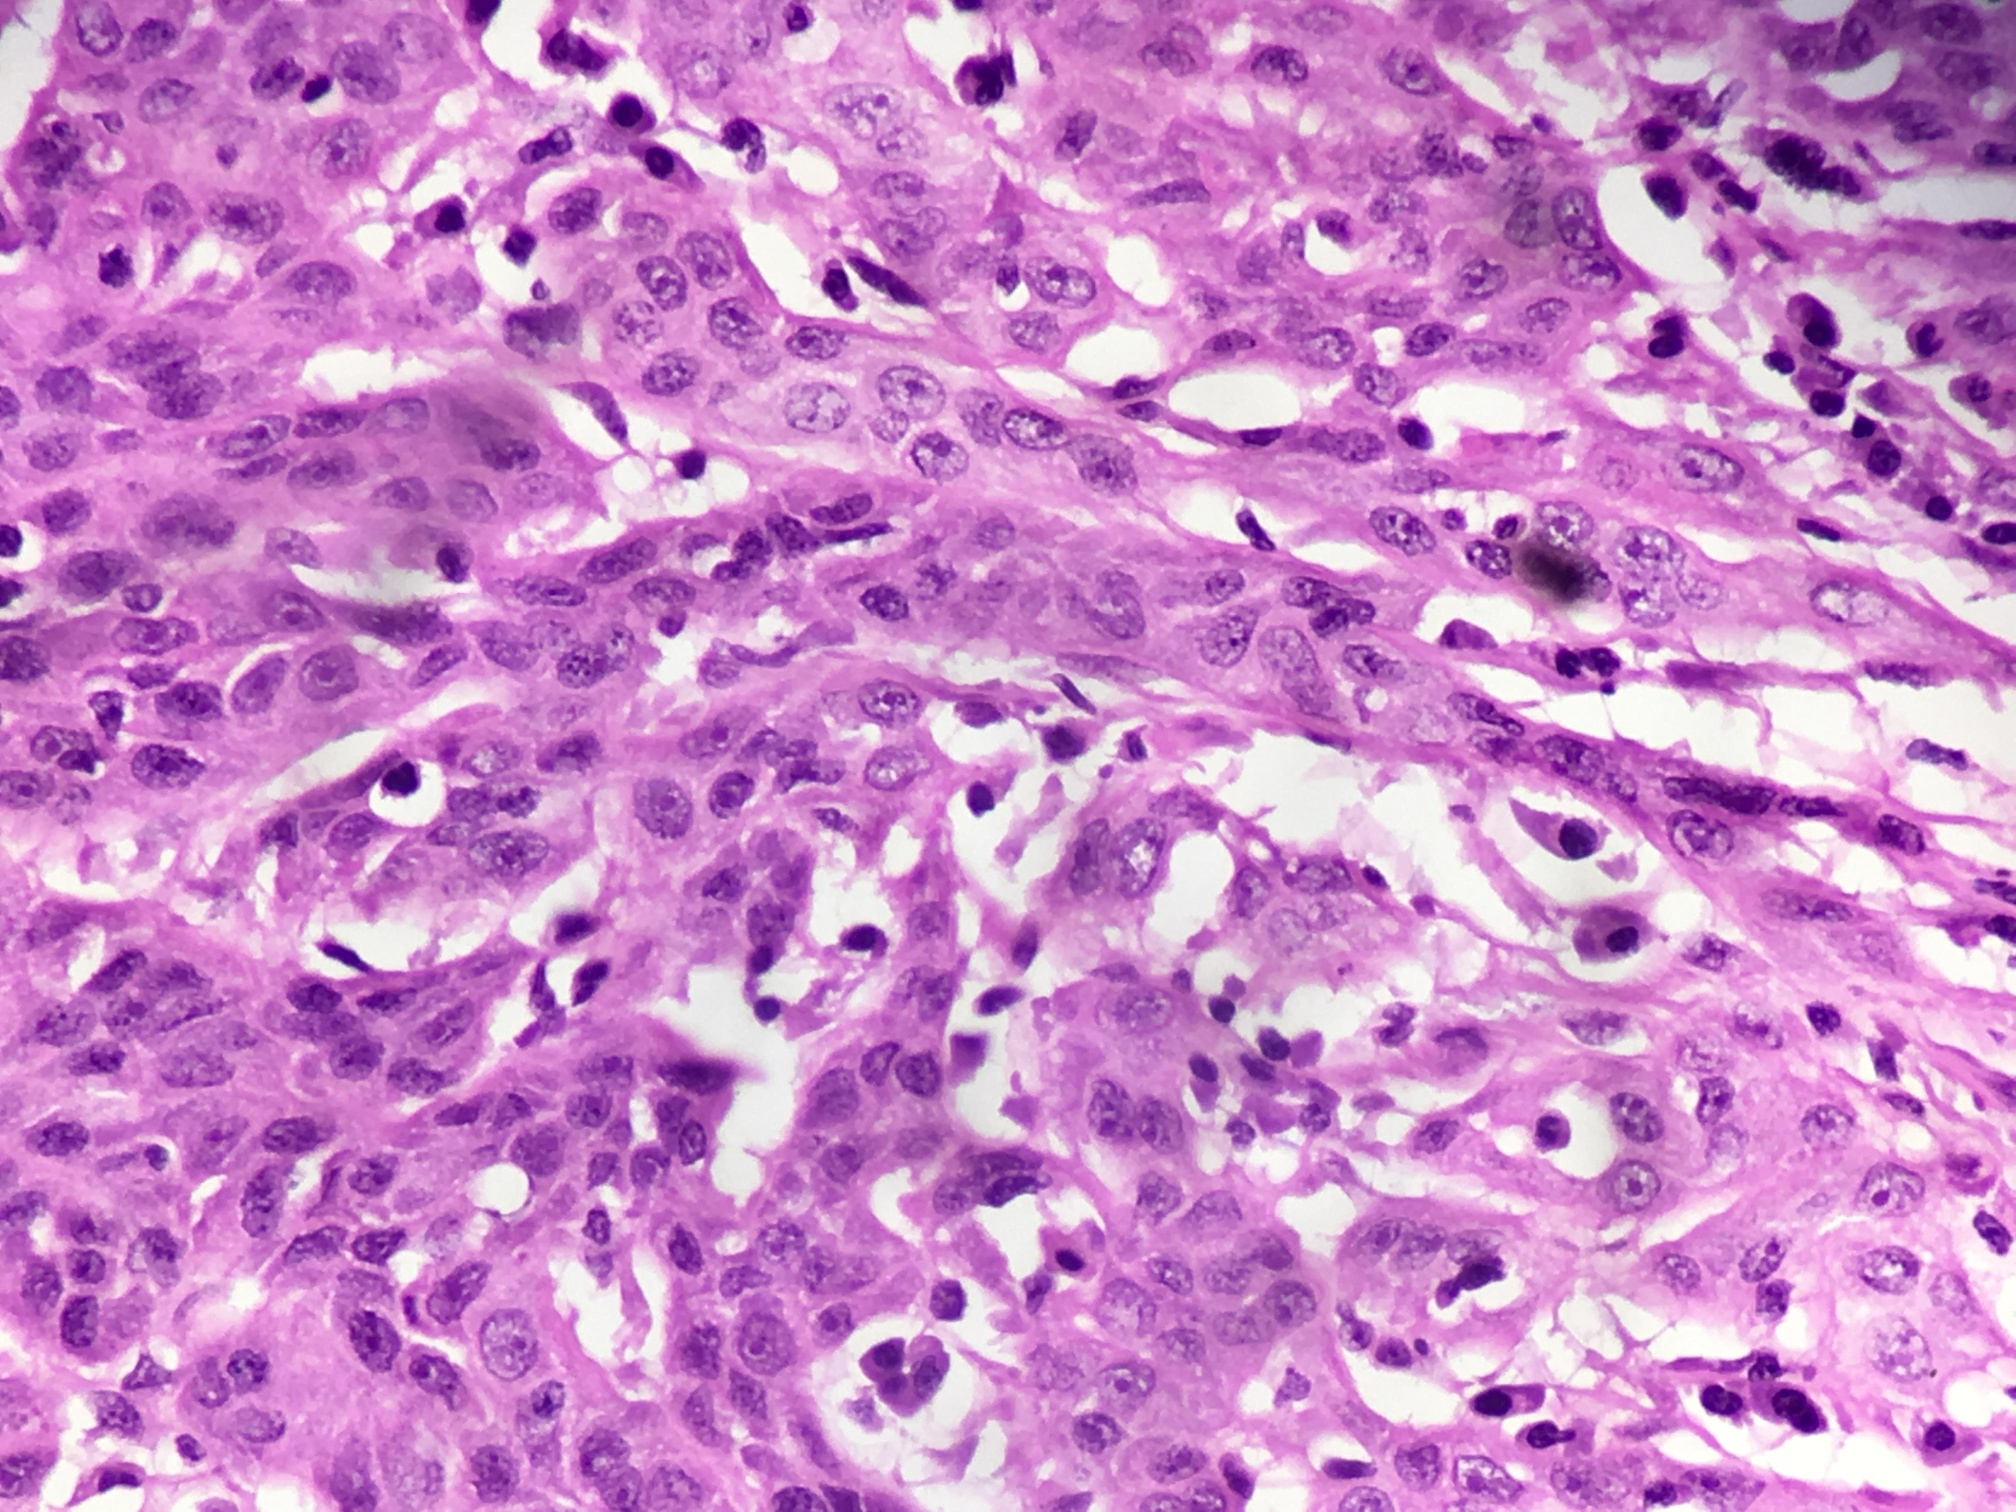mitotic: (54, 184, 187, 324)
